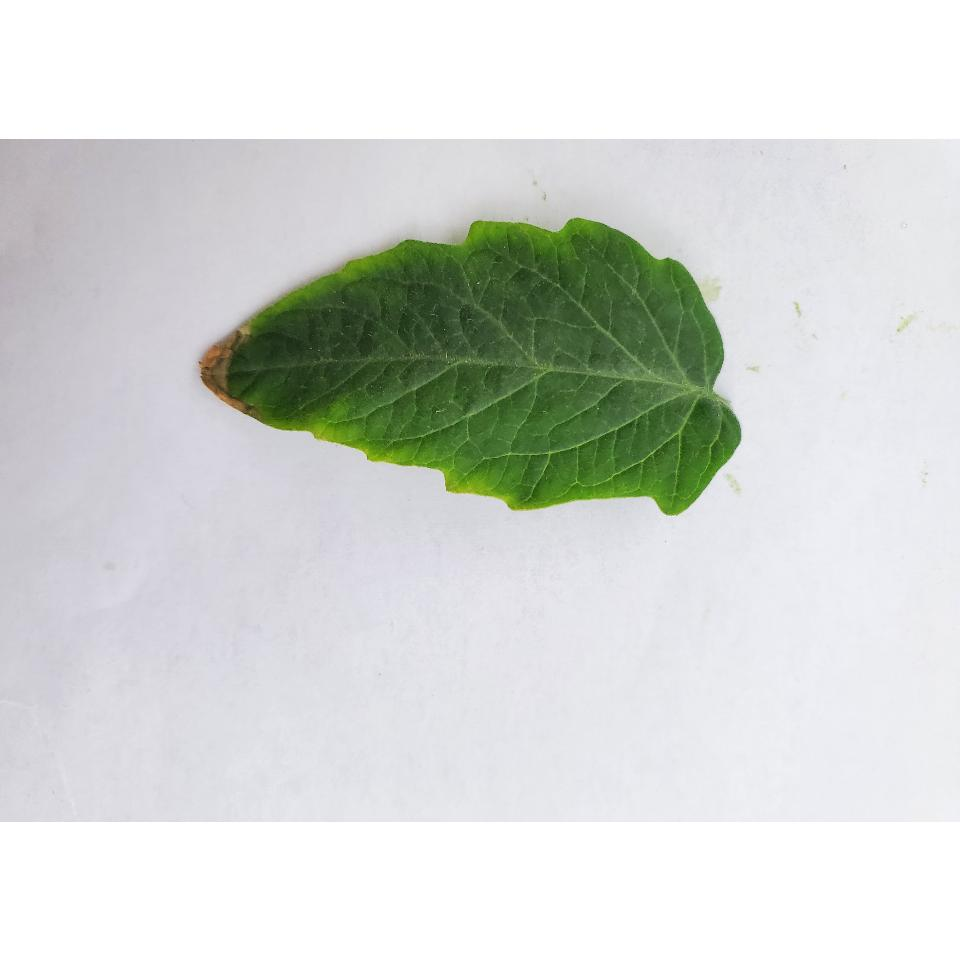tomato_leaves: (222, 214, 748, 510)
